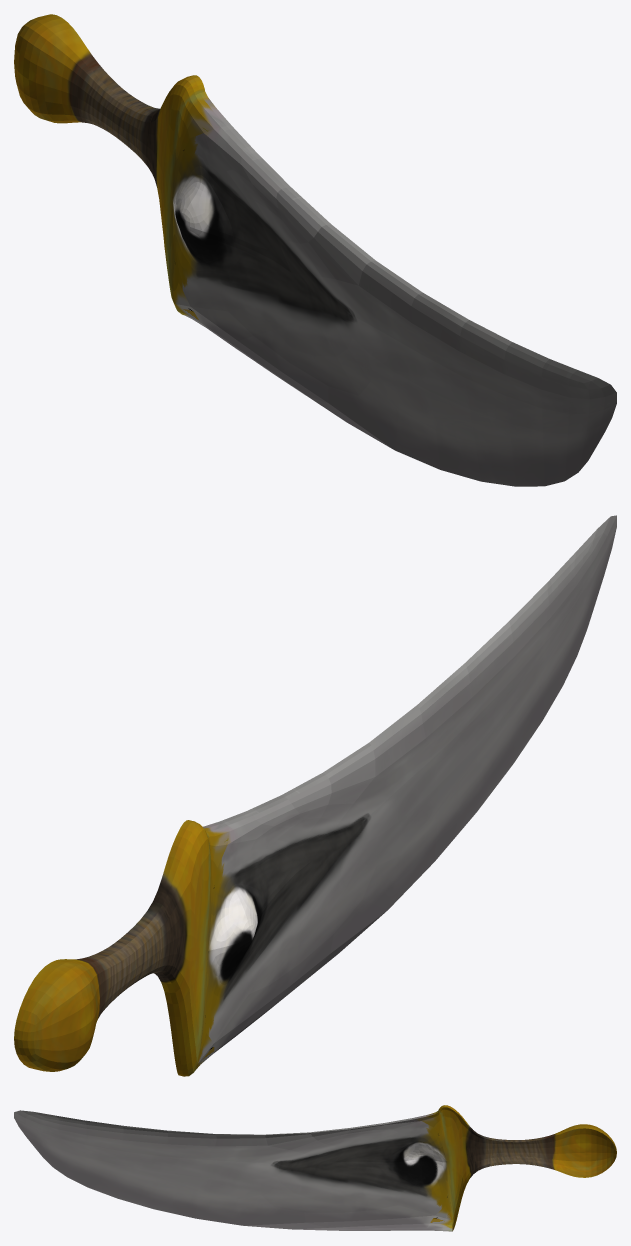
Rendered from archerblade.fbx.
The picture shows the model from 3 angles, top to bottom: view 1: azimuth 30°, elevation 25°; view 2: azimuth 150°, elevation 25°; view 3: azimuth 270°, elevation 25°; orthographic projection. The views are drawn at different scales.
Visible parts, largest first — view 1: Blade; view 2: Blade; view 3: Blade.
Boxes of the visible parts, bbox=[...] form: Blade: bbox=[14, 14, 616, 486]; Blade: bbox=[14, 515, 616, 1076]; Blade: bbox=[14, 1105, 616, 1231].
Size of the model in its own units: 62.26 by 364 by 1597.
1 material, 1 textured.
